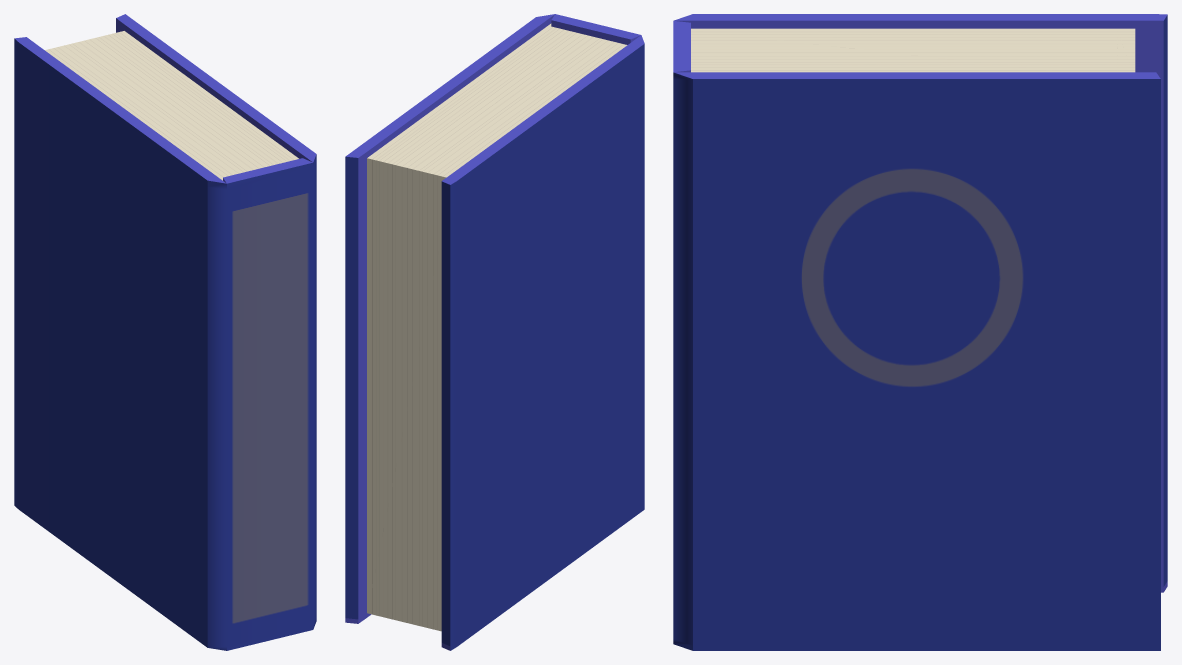
The model's file is bookBlue.fbx.
The picture shows the model from 3 angles, left to right: view 1: azimuth 30°, elevation 25°; view 2: azimuth 150°, elevation 25°; view 3: azimuth 270°, elevation 25°; orthographic projection. The views are drawn at different scales.
Visible parts, largest first — view 1: book; view 2: book; view 3: book.
Part boxes in pixels (x1,y1,x2,y2): book: [14, 14, 316, 650]; book: [345, 14, 644, 650]; book: [673, 14, 1167, 650].
Bounding box in the file's own units: 0.5003 × 2.05 × 1.6.
1 material, 1 textured.
